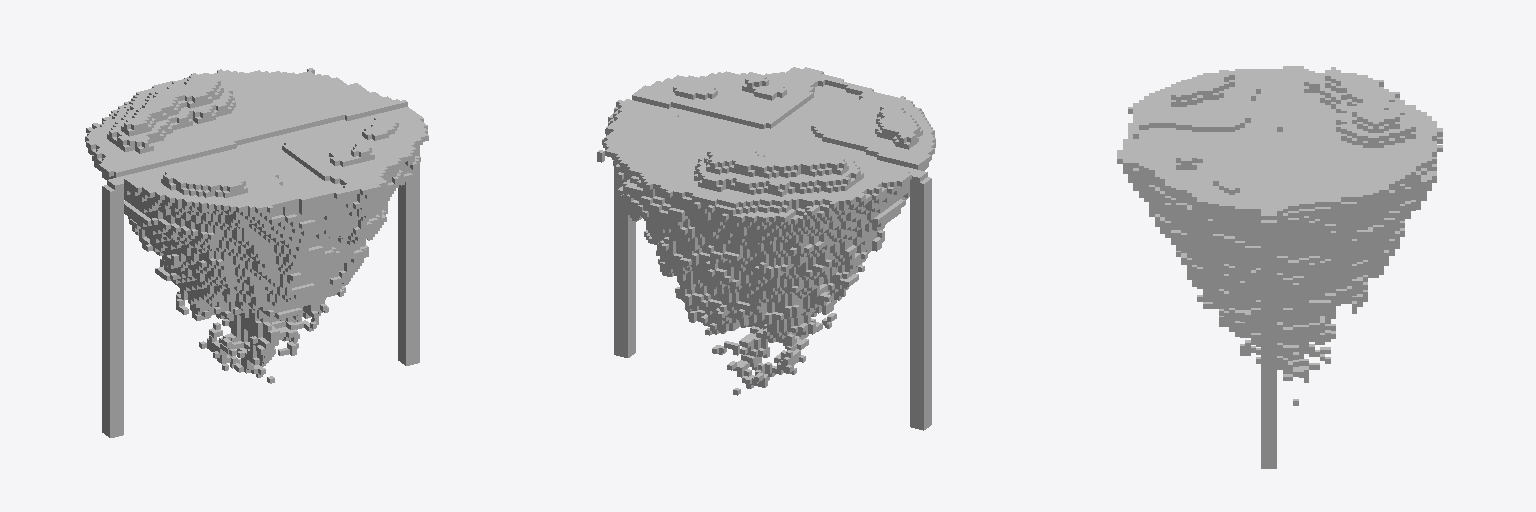
The model's file is floating.obj.
3 views of the same model, side by side, from view 1: azimuth 30°, elevation 25°; view 2: azimuth 150°, elevation 25°; view 3: azimuth 270°, elevation 25° (orthographic).
Parts seen in each view (by area): view 1: object 1; view 2: object 1; view 3: object 1.
Part boxes in pixels (left/top/right/bottom): object 1: left=85, top=68, right=428, bottom=437; object 1: left=597, top=67, right=935, bottom=430; object 1: left=1117, top=66, right=1442, bottom=468.
Size of the model in its own units: 6.7 by 5.7 by 6.1.